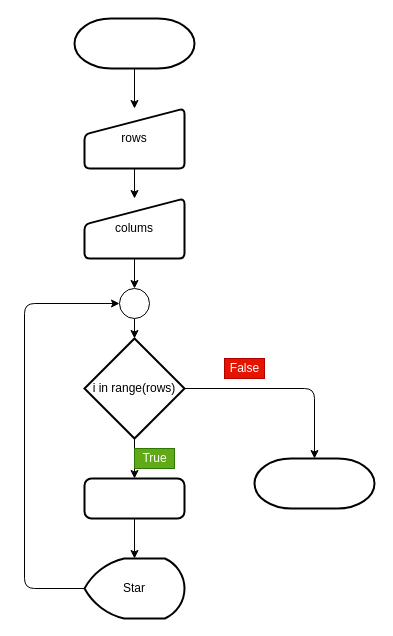
The diagram is 393 pixels wide and 636 high, and some of its shapes have lost their labels. Each missing label, with the box of its shape:
End: (253, 457, 375, 509)
star = '*'*colums: (83, 477, 185, 519)
start: (73, 17, 195, 69)
